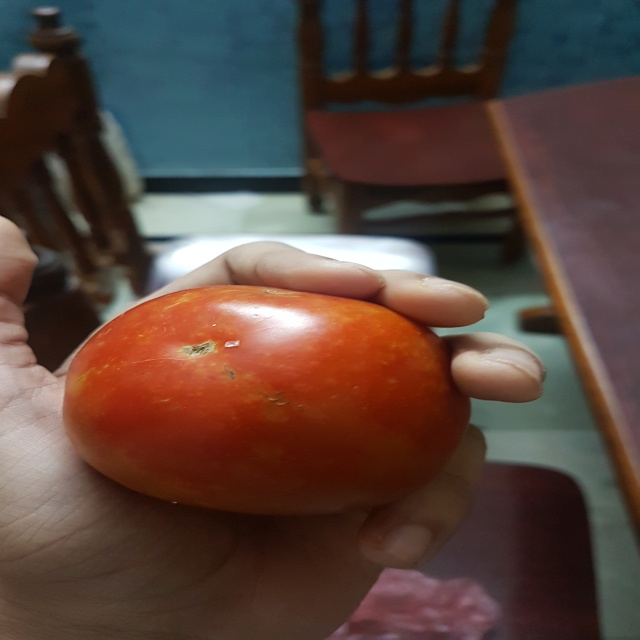tomato: (58, 283, 475, 519)
